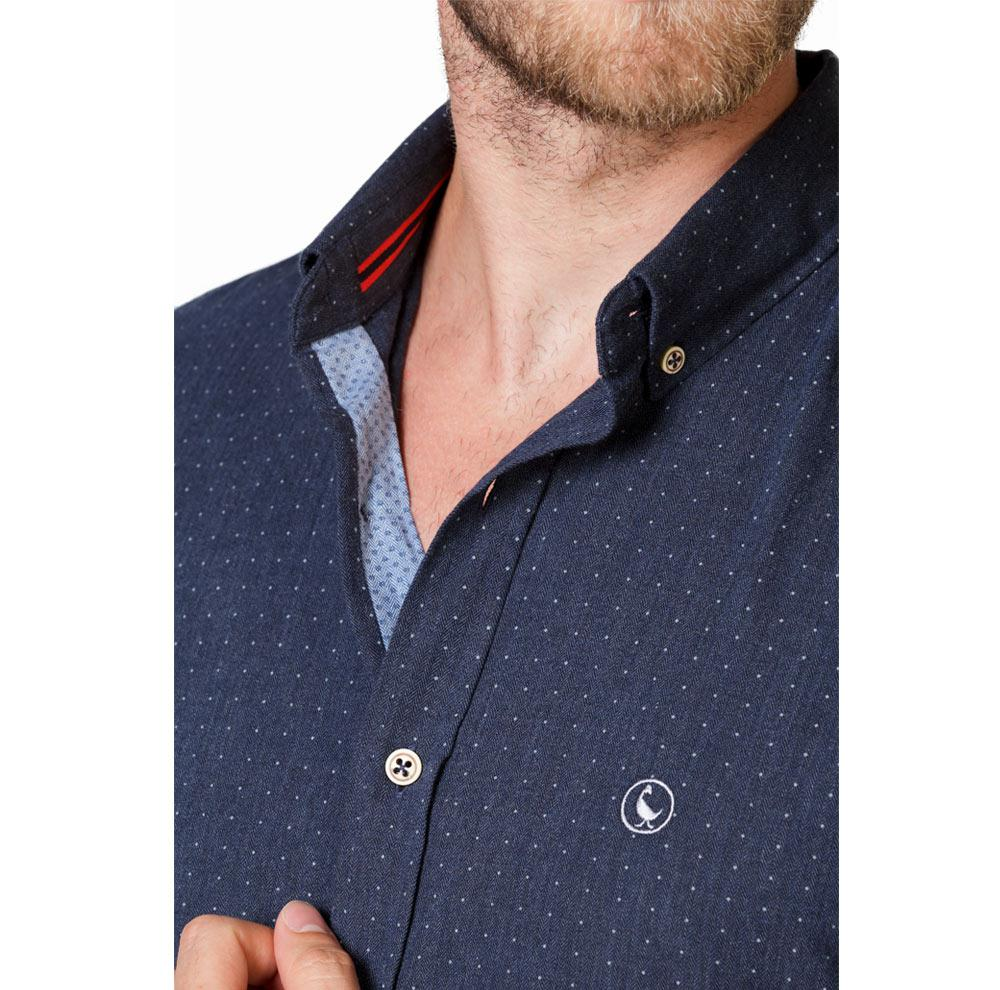teeshirt: (145, 196, 886, 990)
